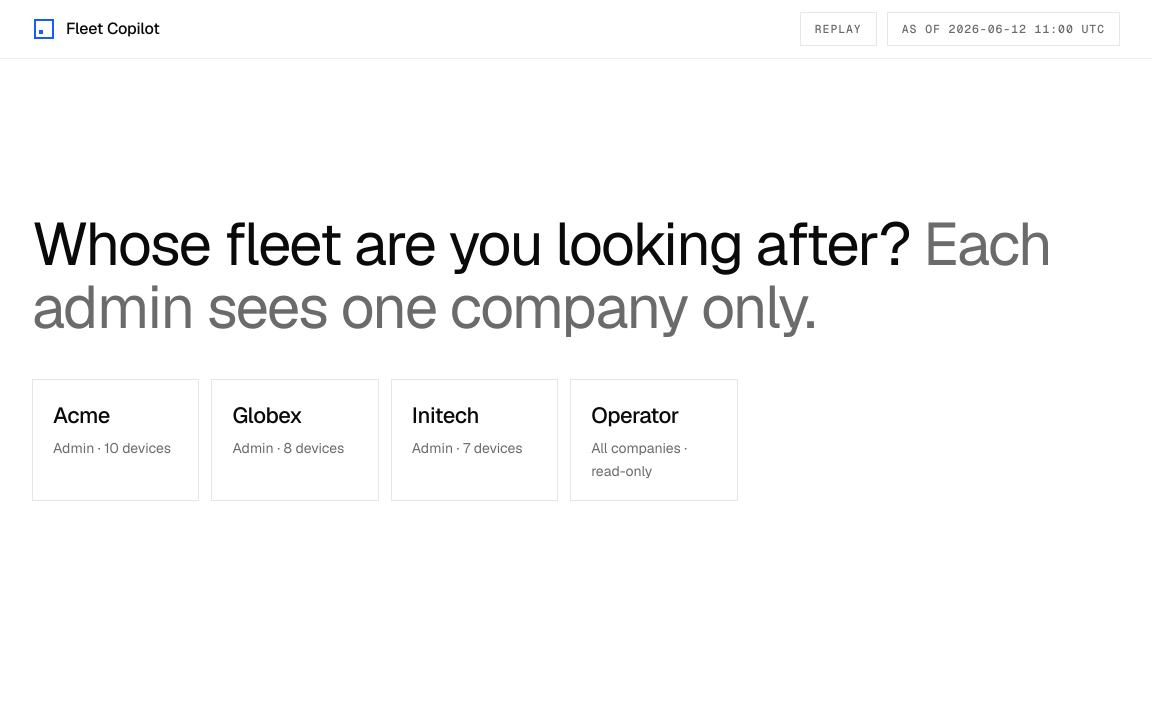
Test: sign-in and company boundary › returns to the sign-in screen when switching company
This screenshot has width=1152, height=720.
Click the button "Acme Admin · 10 devices" at [116, 440], box x1=32 y1=379 x2=199 y2=501
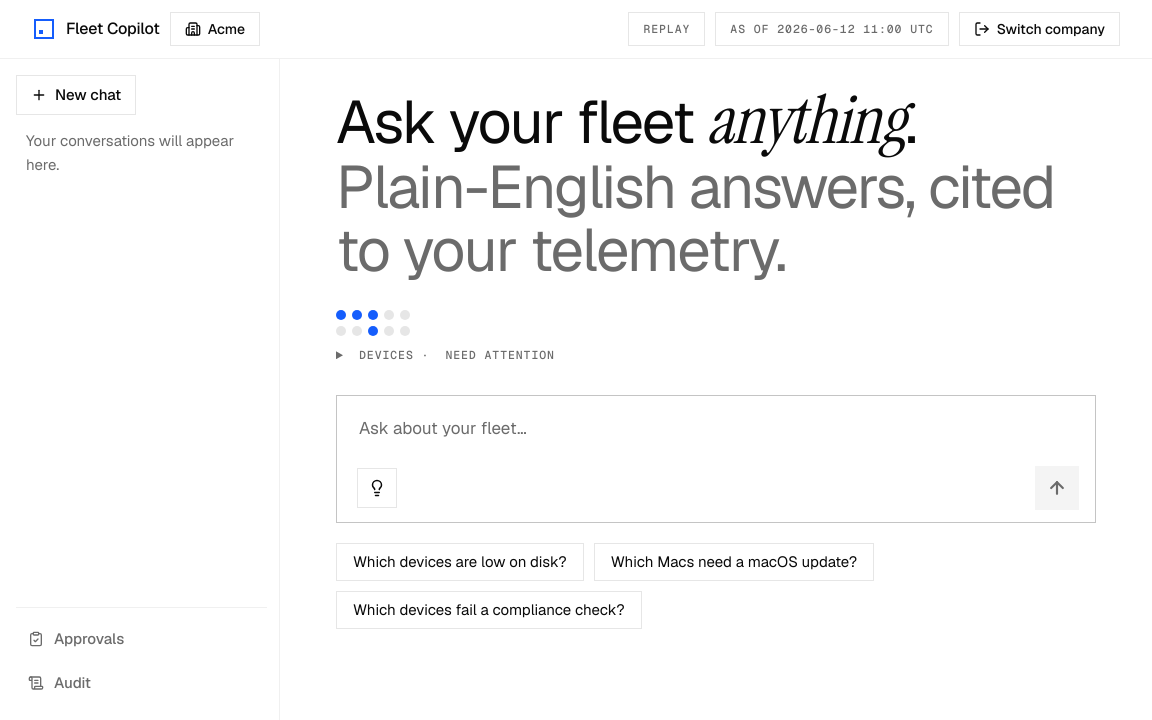
Click the button "Switch company" at [1039, 29], box x1=959 y1=12 x2=1120 y2=46
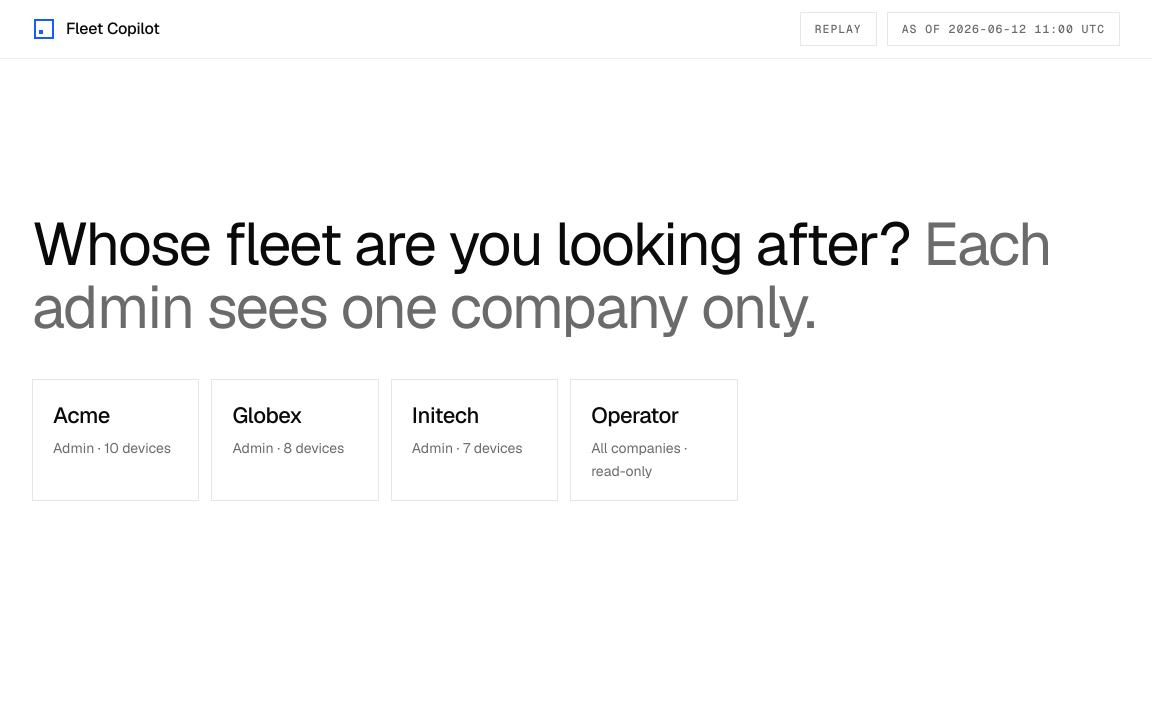
Expected: the button "Initech Admin · 7 devices" is shown, x1=391 y1=379 x2=558 y2=501
